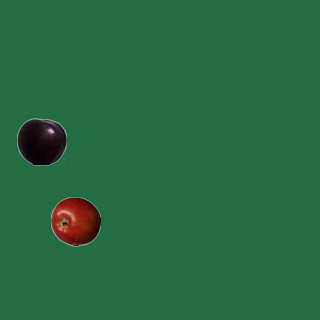Apple Braeburn: (50, 196, 100, 246)
Cherry Wax Black: (16, 116, 66, 166)
